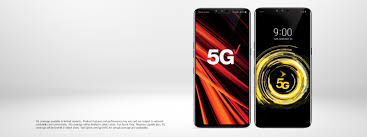lg: (190, 5, 252, 132), (252, 5, 314, 132)
